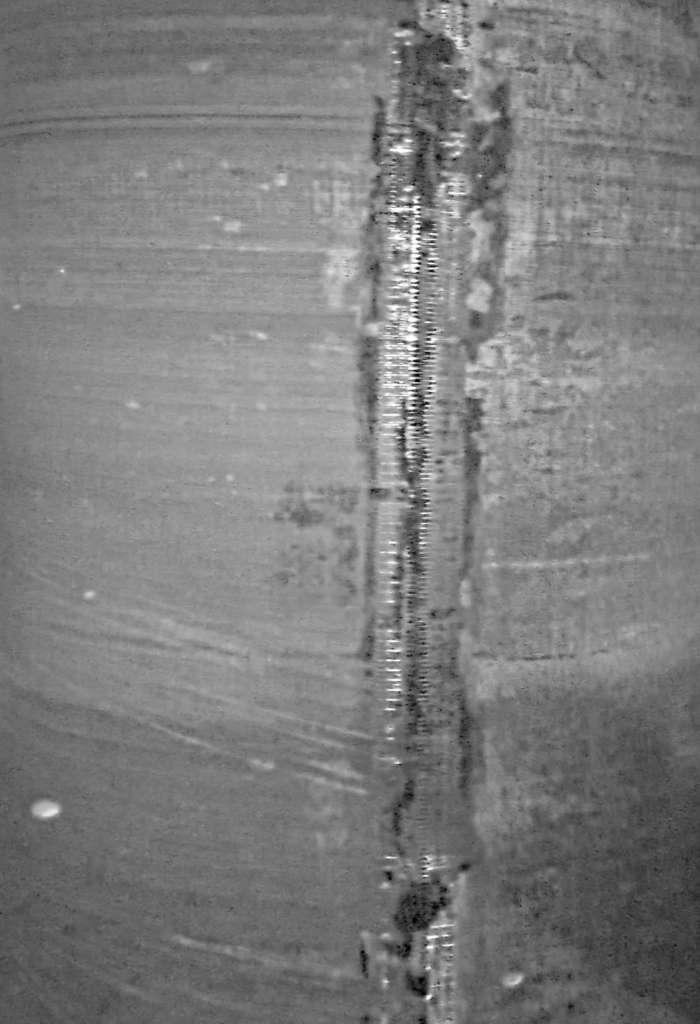splice: (364, 2, 504, 1022)
